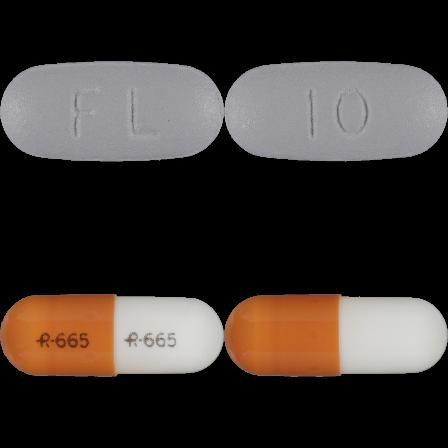55289-937: (0, 0, 224, 224)
